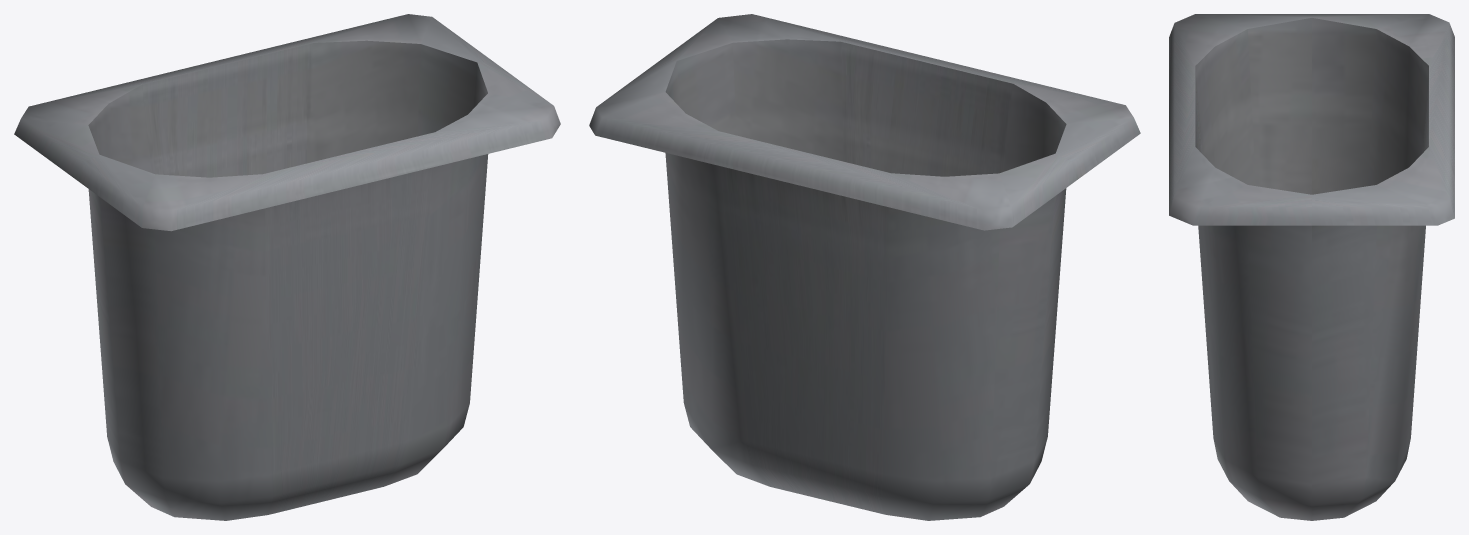
Rendered from SM_Hotel_Pan150_1_9_01.glb.
3 views of the same model, side by side, from view 1: azimuth 30°, elevation 25°; view 2: azimuth 150°, elevation 25°; view 3: azimuth 270°, elevation 25° (orthographic). The views are drawn at different scales.
Visible parts, largest first — view 1: SM_Hotel_Pan150_1_9_01; view 2: SM_Hotel_Pan150_1_9_01; view 3: SM_Hotel_Pan150_1_9_01.
Part boxes in pixels (<box>): SM_Hotel_Pan150_1_9_01: <box>14,14,560,520</box>; SM_Hotel_Pan150_1_9_01: <box>589,14,1140,520</box>; SM_Hotel_Pan150_1_9_01: <box>1169,14,1454,520</box>.
Size of the model in its own units: 0.1761 by 0.1492 by 0.1079.
Materials: 1 (1 with a texture image).
